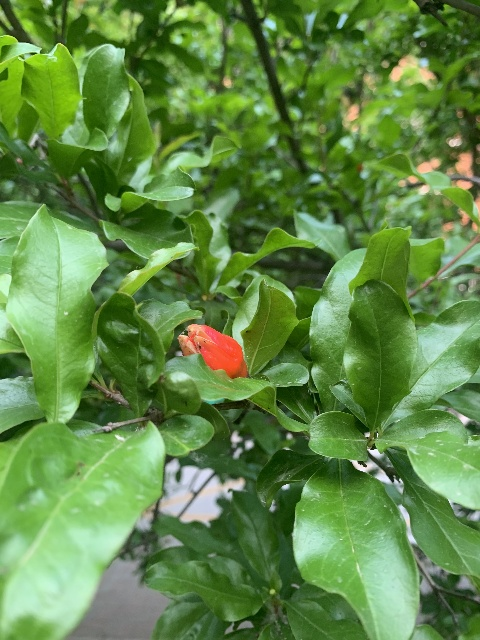flower: (177, 323, 247, 381)
